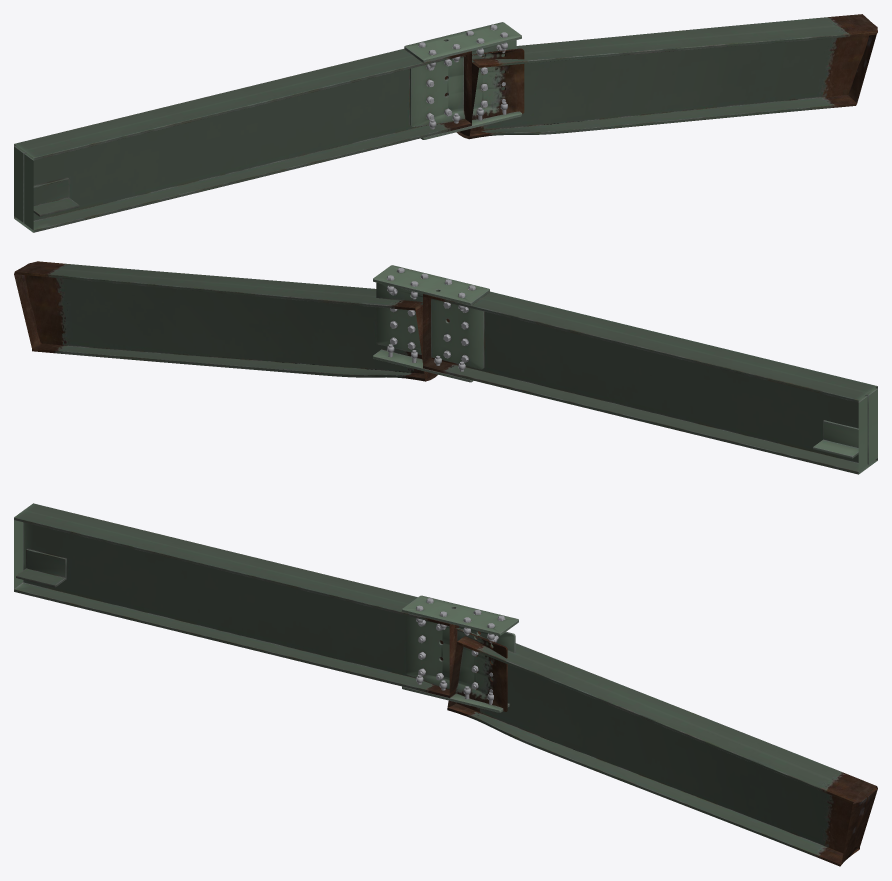
The model's file is industrial_ibeam_bolted.glb.
3 views of the same model, one above another, from view 1: azimuth 30°, elevation 25°; view 2: azimuth 150°, elevation 25°; view 3: azimuth 330°, elevation 25° (orthographic).
Visible parts, largest first — view 1: industrial_ibeam_bolted_paint, industrial_ibeam_bolted_bolt; view 2: industrial_ibeam_bolted_paint, industrial_ibeam_bolted_bolt; view 3: industrial_ibeam_bolted_paint, industrial_ibeam_bolted_bolt.
Boxes of the visible parts, bbox=[...] form: industrial_ibeam_bolted_paint: bbox=[14, 14, 877, 232]; industrial_ibeam_bolted_bolt: bbox=[418, 24, 507, 129]; industrial_ibeam_bolted_paint: bbox=[14, 261, 877, 474]; industrial_ibeam_bolted_bolt: bbox=[387, 268, 475, 371]; industrial_ibeam_bolted_paint: bbox=[14, 503, 877, 866]; industrial_ibeam_bolted_bolt: bbox=[416, 598, 505, 704].
Bounding box in the file's own units: 4.26 × 0.7583 × 0.2262.
Materials: 2 (1 with a texture image).
